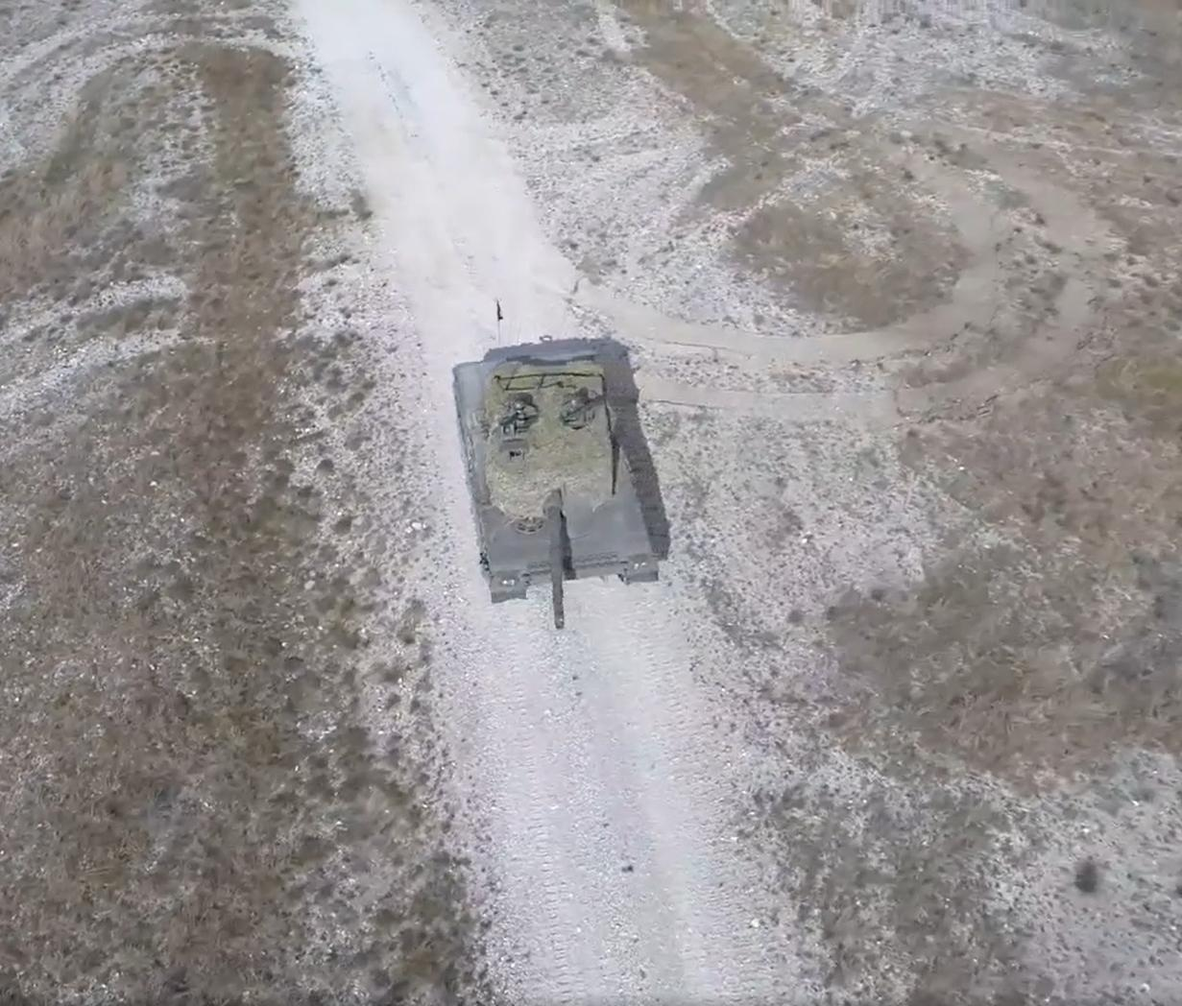tank: (445, 331, 668, 636)
